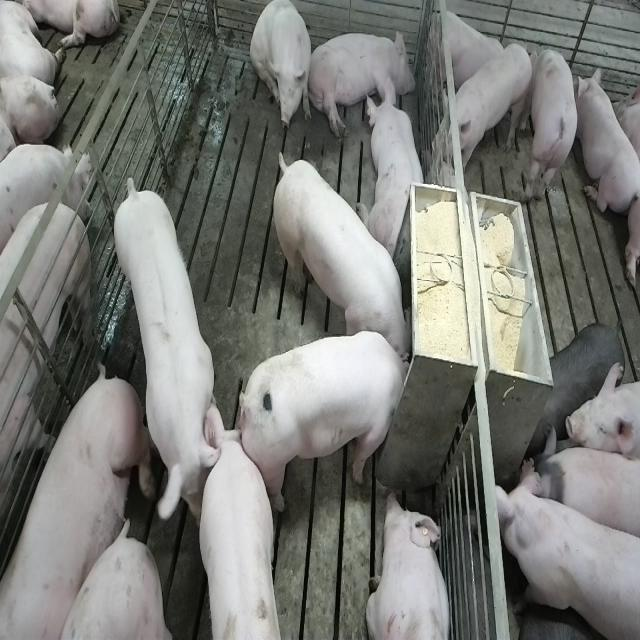Feeding: (243, 329, 420, 512), (268, 144, 411, 360)
Lateral_lying: (0, 365, 147, 640), (307, 26, 416, 140)
Sitting: (250, 2, 313, 140)
Standing: (0, 195, 93, 640), (111, 180, 222, 528), (495, 459, 640, 639), (181, 423, 279, 640), (530, 321, 628, 454), (529, 428, 637, 546), (438, 47, 534, 172)
Sternal_lying: (366, 490, 454, 640), (366, 79, 430, 258), (578, 62, 638, 216), (427, 6, 507, 96)
